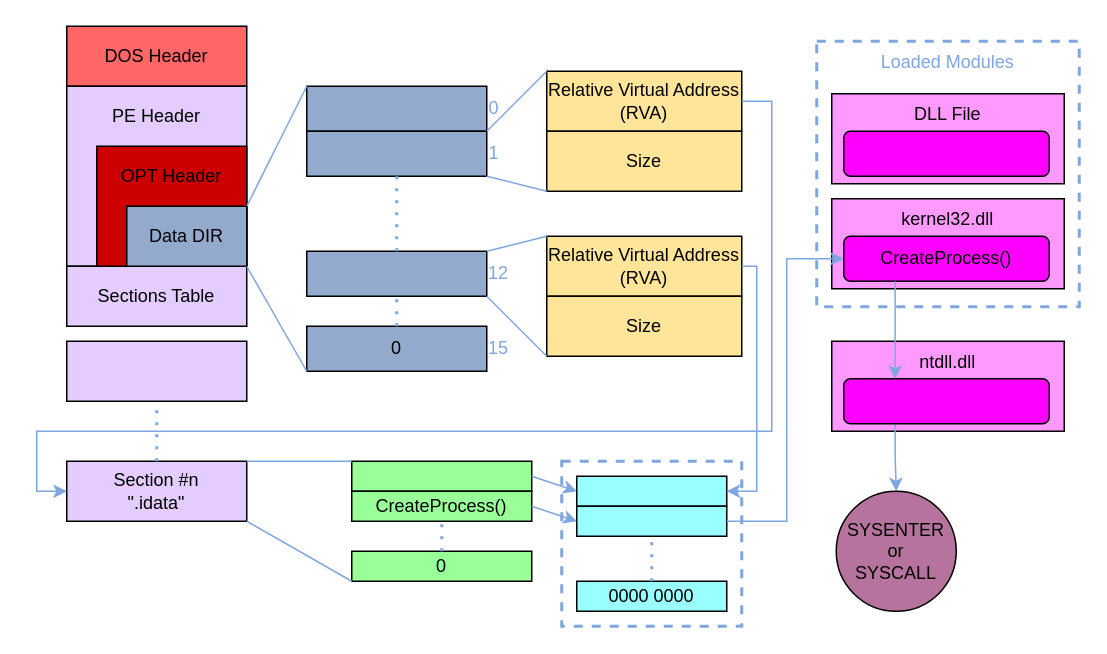
This 1107x654 diagram has some shape labels left out. The shapes that lost their labels are listed below. From the top down, each one's centre as x and y in pixels, then its label:
At pixel 396 108: "Export".
At pixel 396 153: "Import".
At pixel 945 153: "Function()".
At pixel 396 273: "IAT".
At pixel 156 370: "Section #1".
At pixel 945 400: "NtCreateUserProcess()".
At pixel 441 475: "Function".
At pixel 651 490: "address 1".
At pixel 651 520: "address 2".
